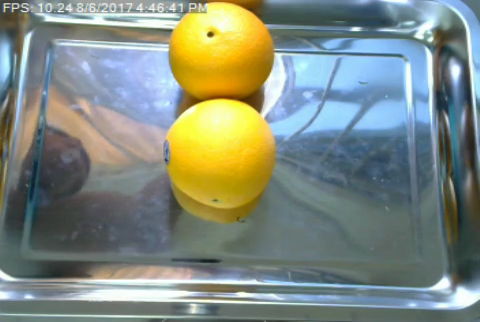Orange: (162, 97, 276, 211), (167, 2, 278, 105)
